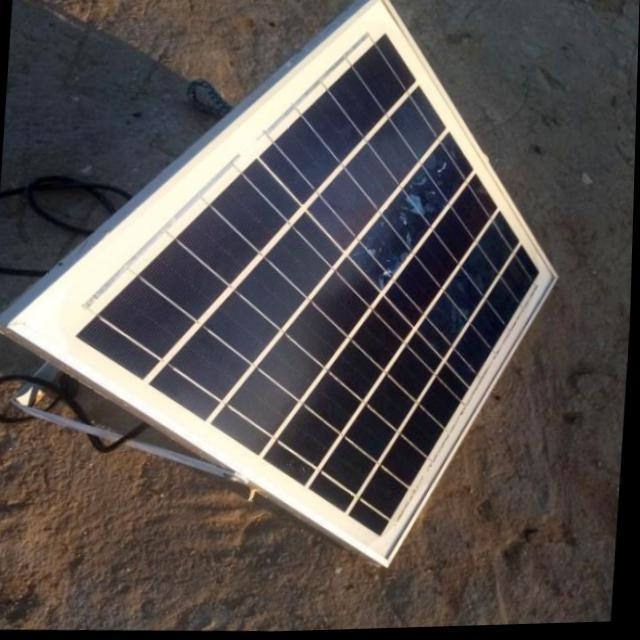Normal Solar Panel: (0, 0, 573, 588)
